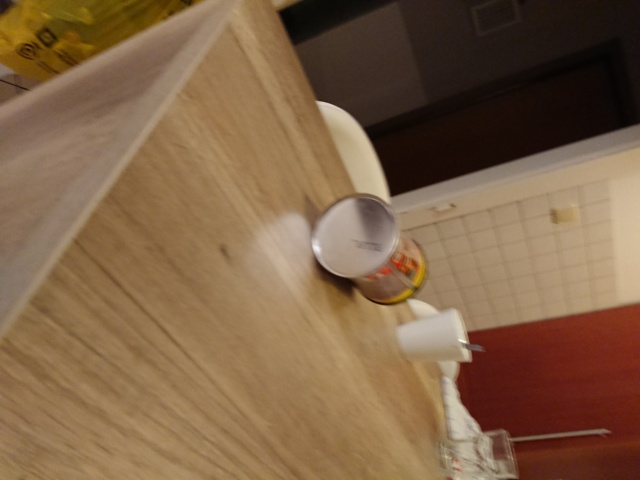Nescafe Classic 225g: (307, 190, 433, 309)
